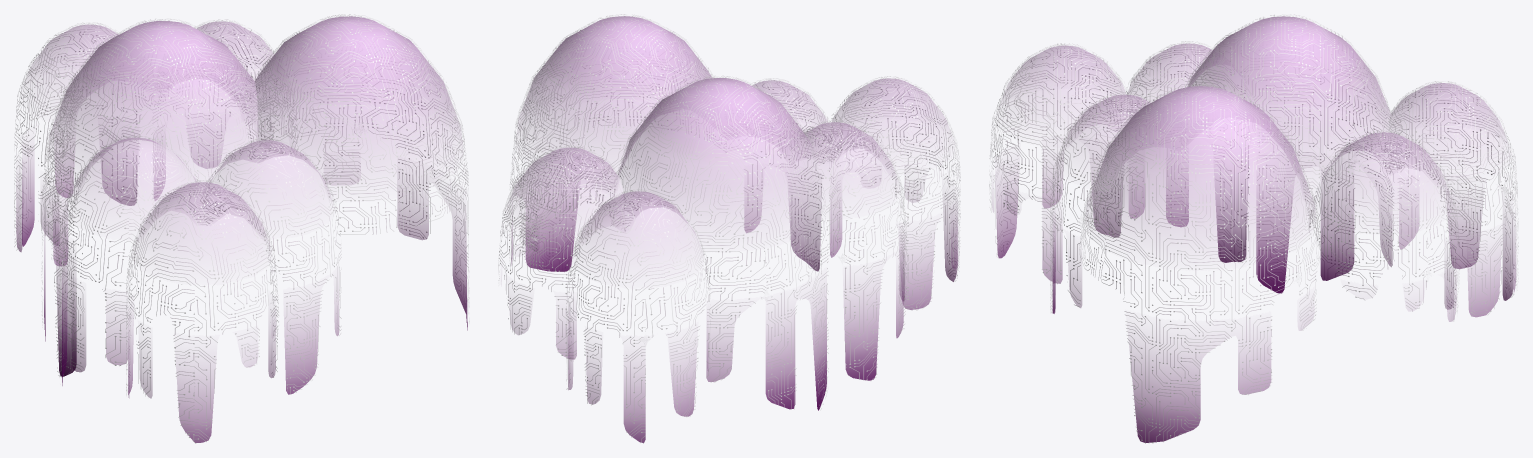
The model's file is pm-dome-04.glb.
The picture shows the model from 3 angles, left to right: view 1: azimuth 30°, elevation 25°; view 2: azimuth 150°, elevation 25°; view 3: azimuth 270°, elevation 25°; orthographic projection. The views are drawn at different scales.
Visible parts, largest first — view 1: Dome04_Art; view 2: Dome04_Art; view 3: Dome04_Art.
Part boxes in pixels (x1=…): Dome04_Art: x1=14, y1=14, x2=469, y2=443; Dome04_Art: x1=498, y1=14, x2=960, y2=443; Dome04_Art: x1=989, y1=14, x2=1518, y2=443.
Size of the model in its own units: 37.09 by 29.3 by 43.68.
2 materials, 2 textured.
